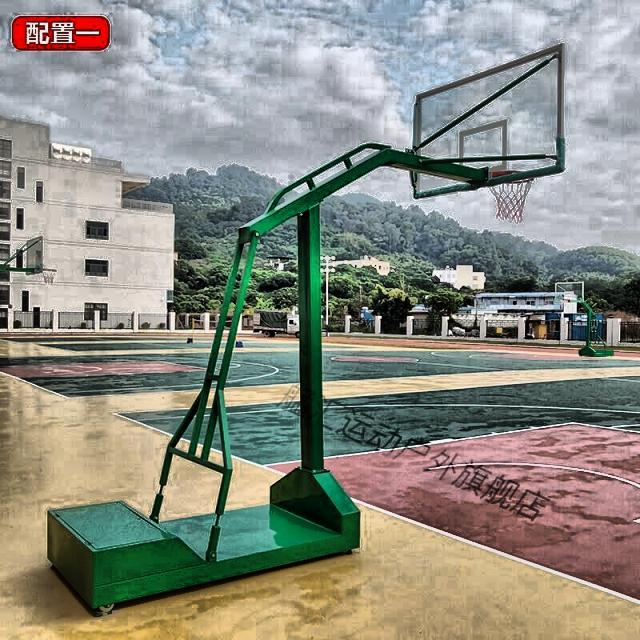rim: (490, 171, 536, 223)
